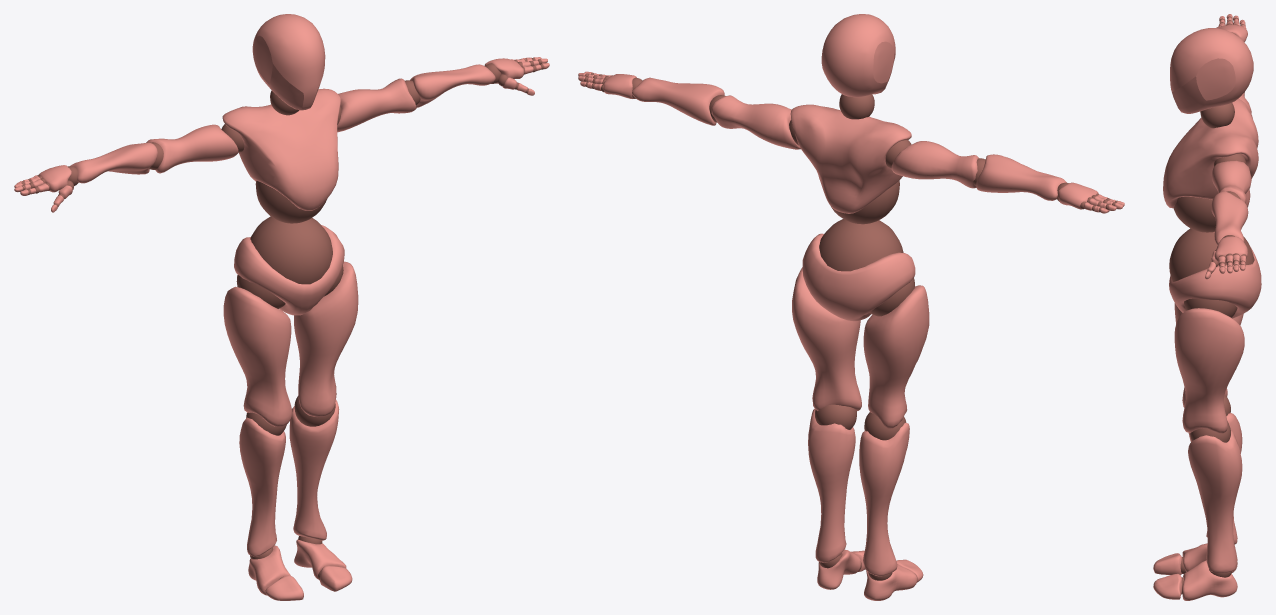
The picture shows the model from 3 angles, left to right: view 1: azimuth 30°, elevation 25°; view 2: azimuth 150°, elevation 25°; view 3: azimuth 270°, elevation 25°; orthographic projection. The views are drawn at different scales.
Parts seen in each view (by area): view 1: Beta_Surface, Beta_Joints; view 2: Beta_Surface, Beta_Joints; view 3: Beta_Surface, Beta_Joints.
Boxes of the visible parts, left/top/right/bottom form: Beta_Surface: left=14, top=14, right=549, bottom=600; Beta_Joints: left=21, top=57, right=543, bottom=579; Beta_Surface: left=578, top=14, right=1124, bottom=600; Beta_Joints: left=584, top=72, right=1117, bottom=580; Beta_Surface: left=1153, top=14, right=1261, bottom=600; Beta_Joints: left=1169, top=16, right=1254, bottom=594.
Bounding box in the file's own units: 181 × 181 × 32.07.
